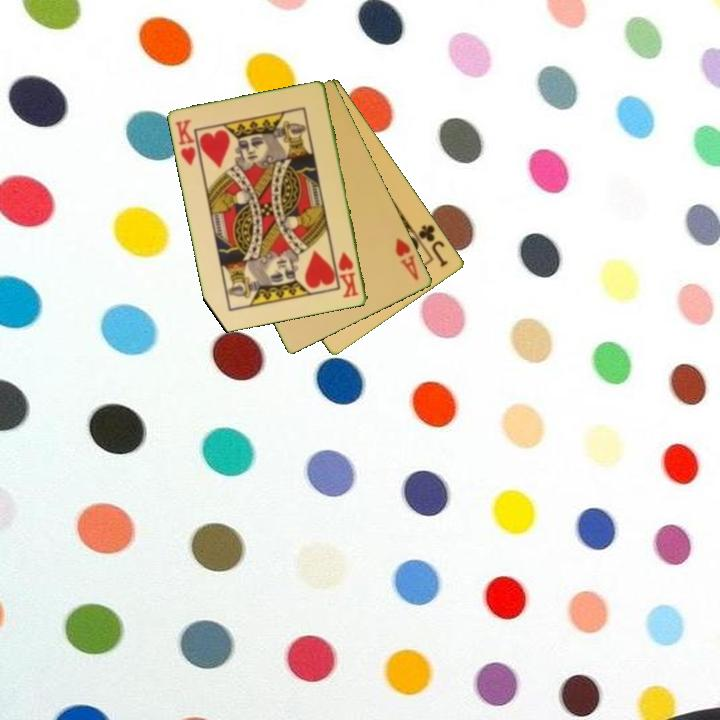Ah: (392, 234, 422, 283)
Jc: (410, 221, 451, 270)
Kh: (172, 116, 199, 169), (335, 249, 362, 301)
